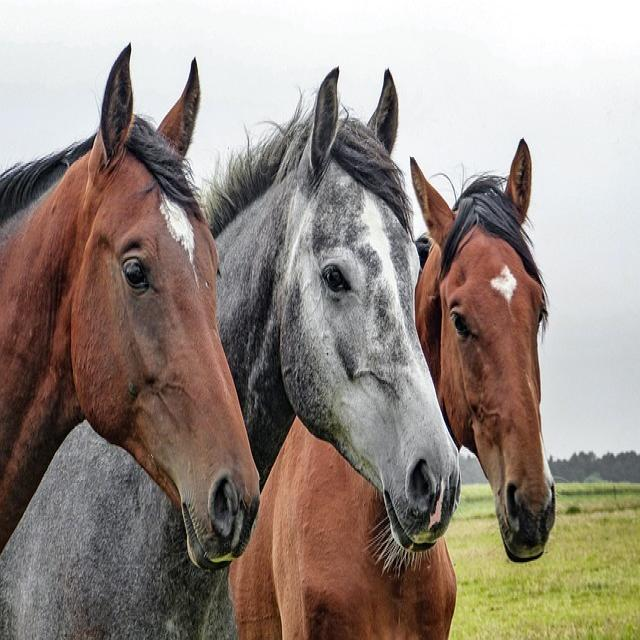Herbivorous: (194, 70, 465, 640), (0, 46, 262, 571), (408, 142, 557, 565)
